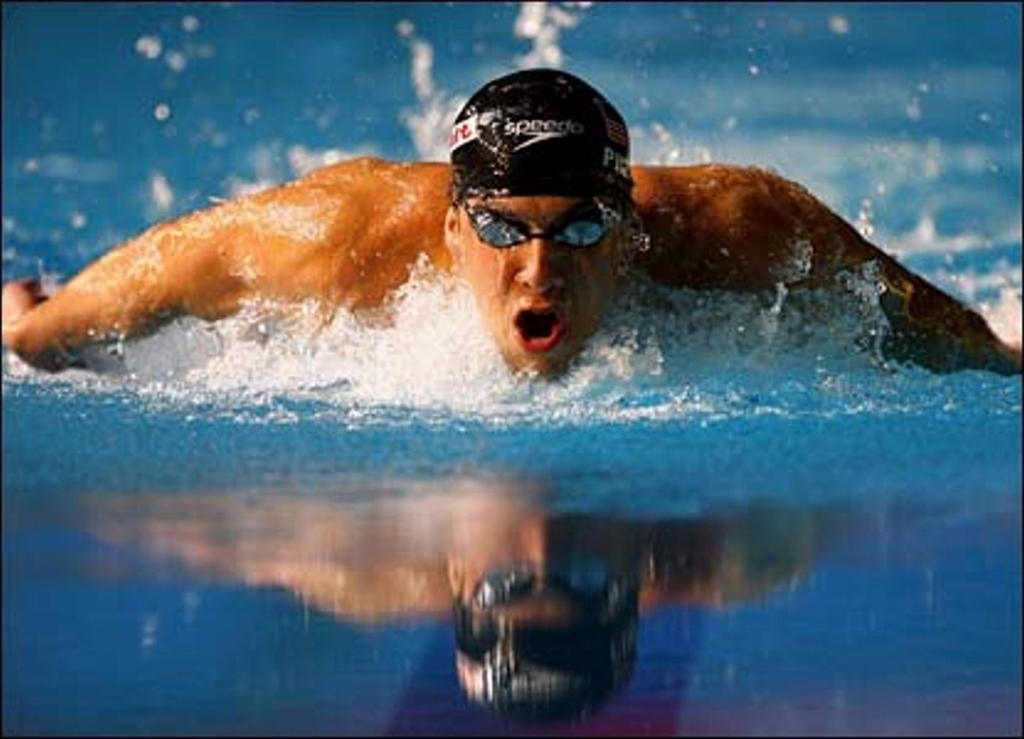face: (458, 160, 620, 370)
